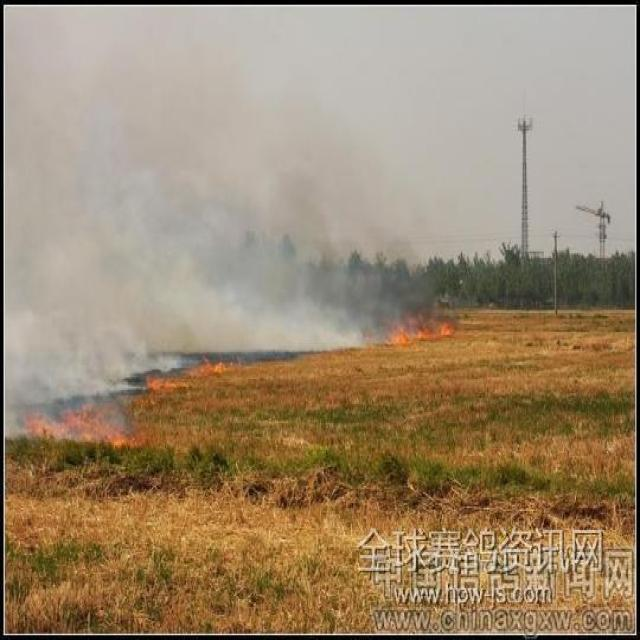fire: (29, 411, 140, 452), (384, 308, 448, 342), (145, 371, 199, 393), (186, 362, 233, 375)
smoke: (32, 160, 352, 354), (15, 294, 138, 393)
